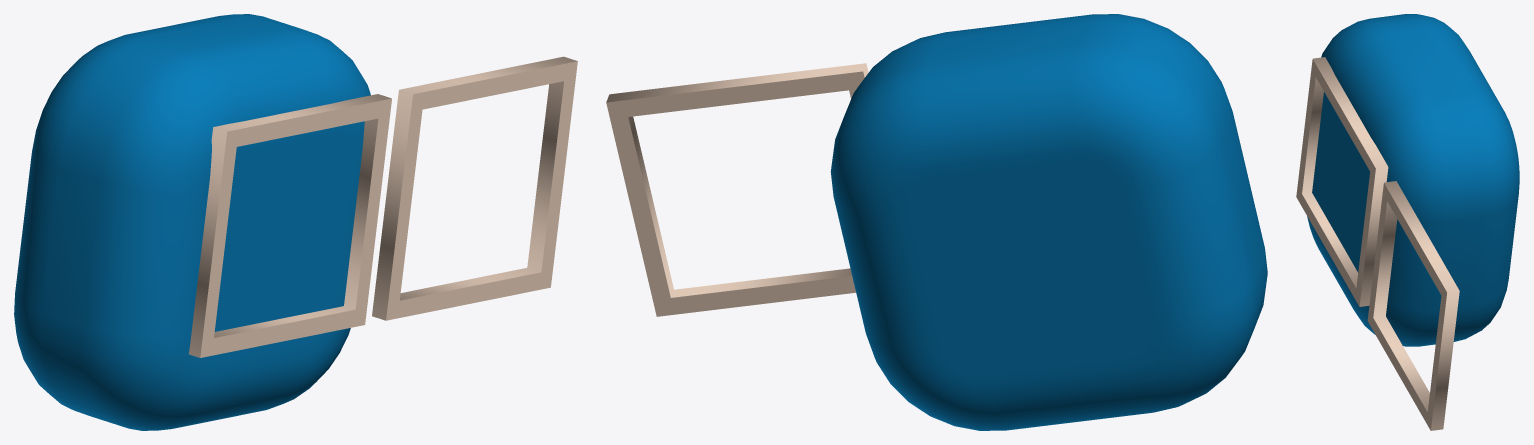
Rendered from linkedin.glb.
The picture shows the model from 3 angles, left to right: view 1: azimuth 30°, elevation 25°; view 2: azimuth 150°, elevation 25°; view 3: azimuth 270°, elevation 25°; orthographic projection. The views are drawn at different scales.
Visible parts, largest first — view 1: Cube.016, Text.003; view 2: Cube.016, Text.003; view 3: Cube.016, Text.003.
Part boxes in pixels (<box>): Cube.016: <box>14,14,370,430</box>; Text.003: <box>189,56,577,357</box>; Cube.016: <box>830,14,1267,430</box>; Text.003: <box>606,63,868,316</box>; Cube.016: <box>1307,14,1519,346</box>; Text.003: <box>1296,57,1459,430</box>.
Size of what is drawn, in the model's own units: 3.45 by 2.15 by 1.56.
